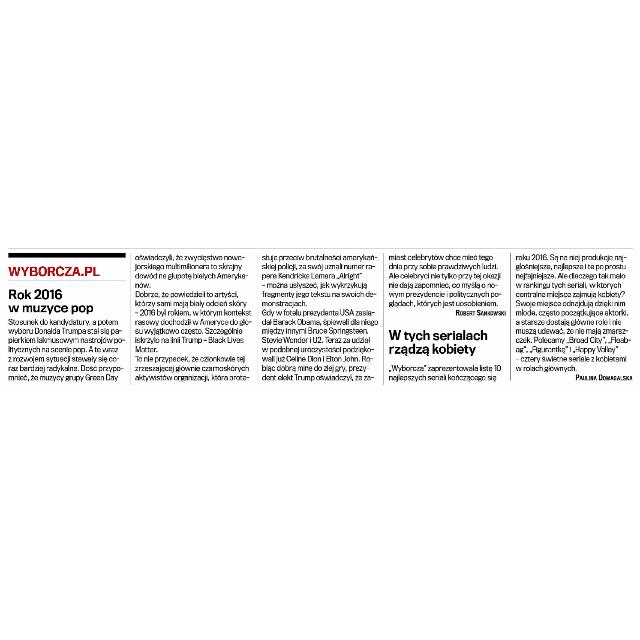author: (574, 372, 638, 384), (452, 308, 508, 320)
body: (132, 254, 254, 386), (259, 252, 379, 386), (514, 253, 636, 375), (4, 318, 128, 387), (387, 252, 505, 308), (386, 364, 506, 386)
title: (388, 327, 506, 358), (7, 284, 108, 316)
